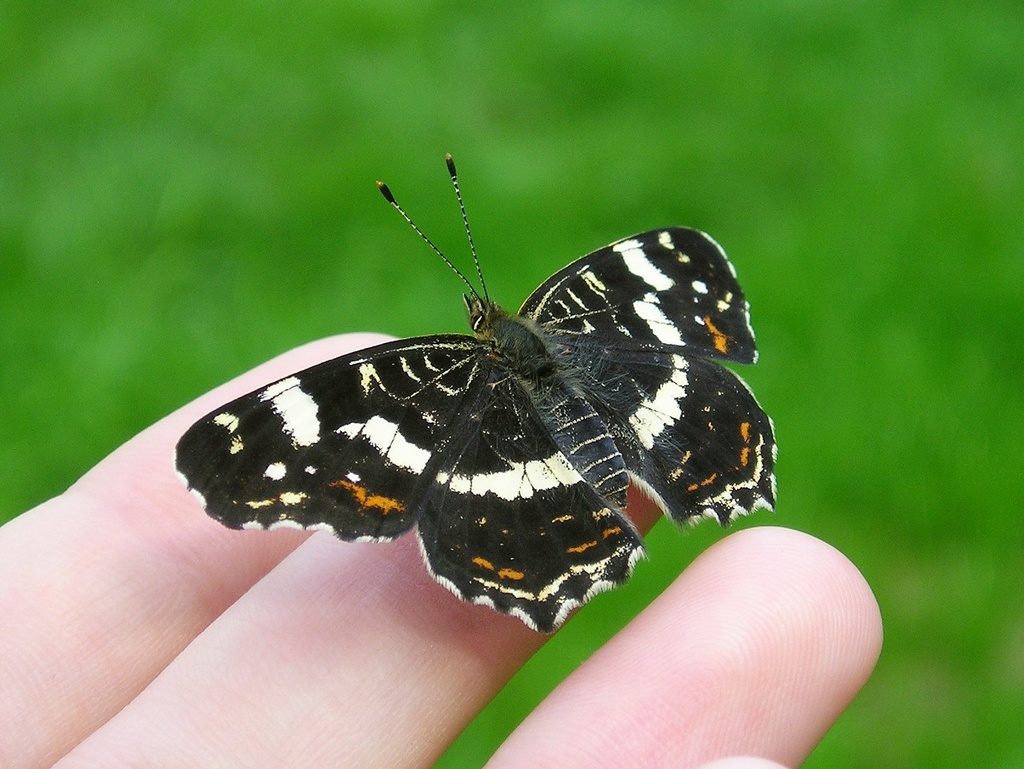Butterfly: (147, 192, 782, 618)
